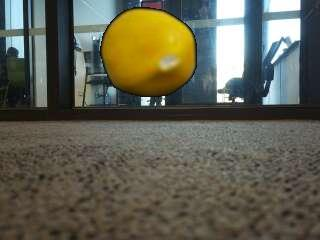lemon: (102, 10, 197, 98)
